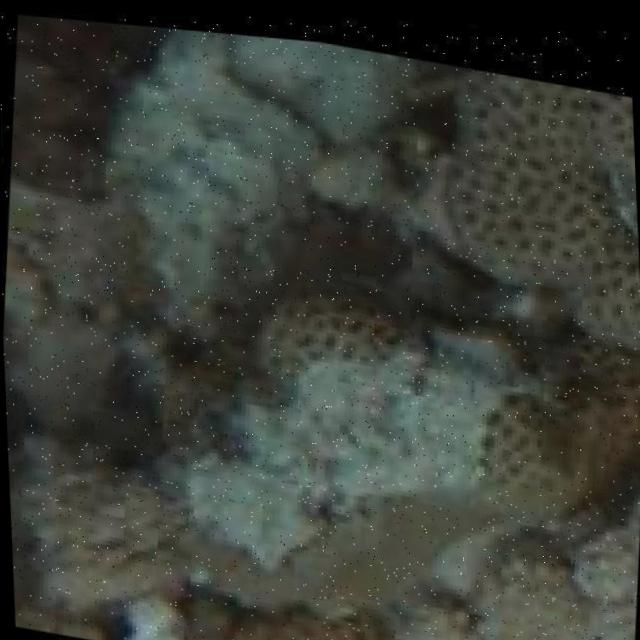Healthy Coral: (423, 46, 640, 333), (475, 332, 640, 587), (158, 564, 401, 640), (240, 274, 408, 379)
